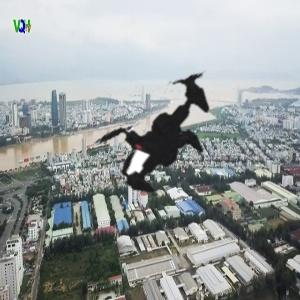drone: (57, 28, 258, 229)
